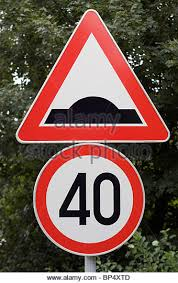Speed_limit_40km: (28, 143, 147, 256)
